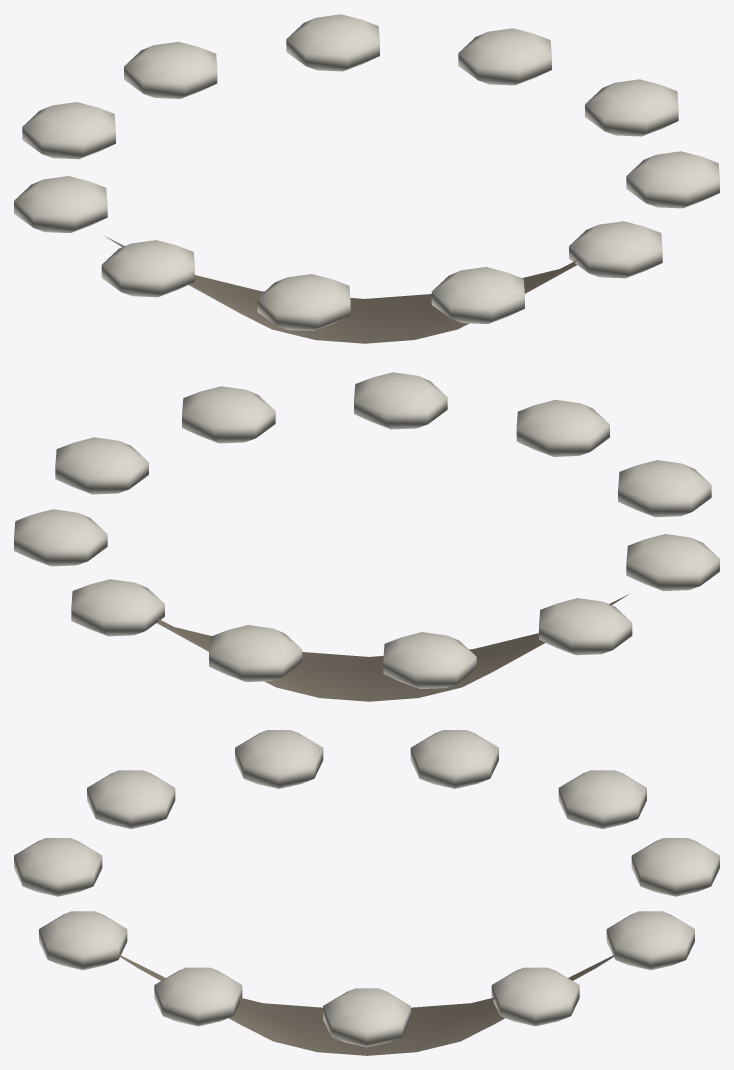
Rendered from trench-line-1917-shell-crater-small-d36ea6ec__24076.glb.
The picture shows the model from 3 angles, top to bottom: view 1: azimuth 30°, elevation 25°; view 2: azimuth 150°, elevation 25°; view 3: azimuth 270°, elevation 25°; orthographic projection.
Visible parts, largest first — view 1: shell-crater-small; view 2: shell-crater-small; view 3: shell-crater-small.
Boxes of the visible parts, x1=… form: shell-crater-small: x1=14, y1=14, x2=719, y2=343; shell-crater-small: x1=14, y1=372, x2=719, y2=701; shell-crater-small: x1=14, y1=730, x2=719, y2=1055.
Bounding box in the file's own units: 4.28 × 1.12 × 4.27.
